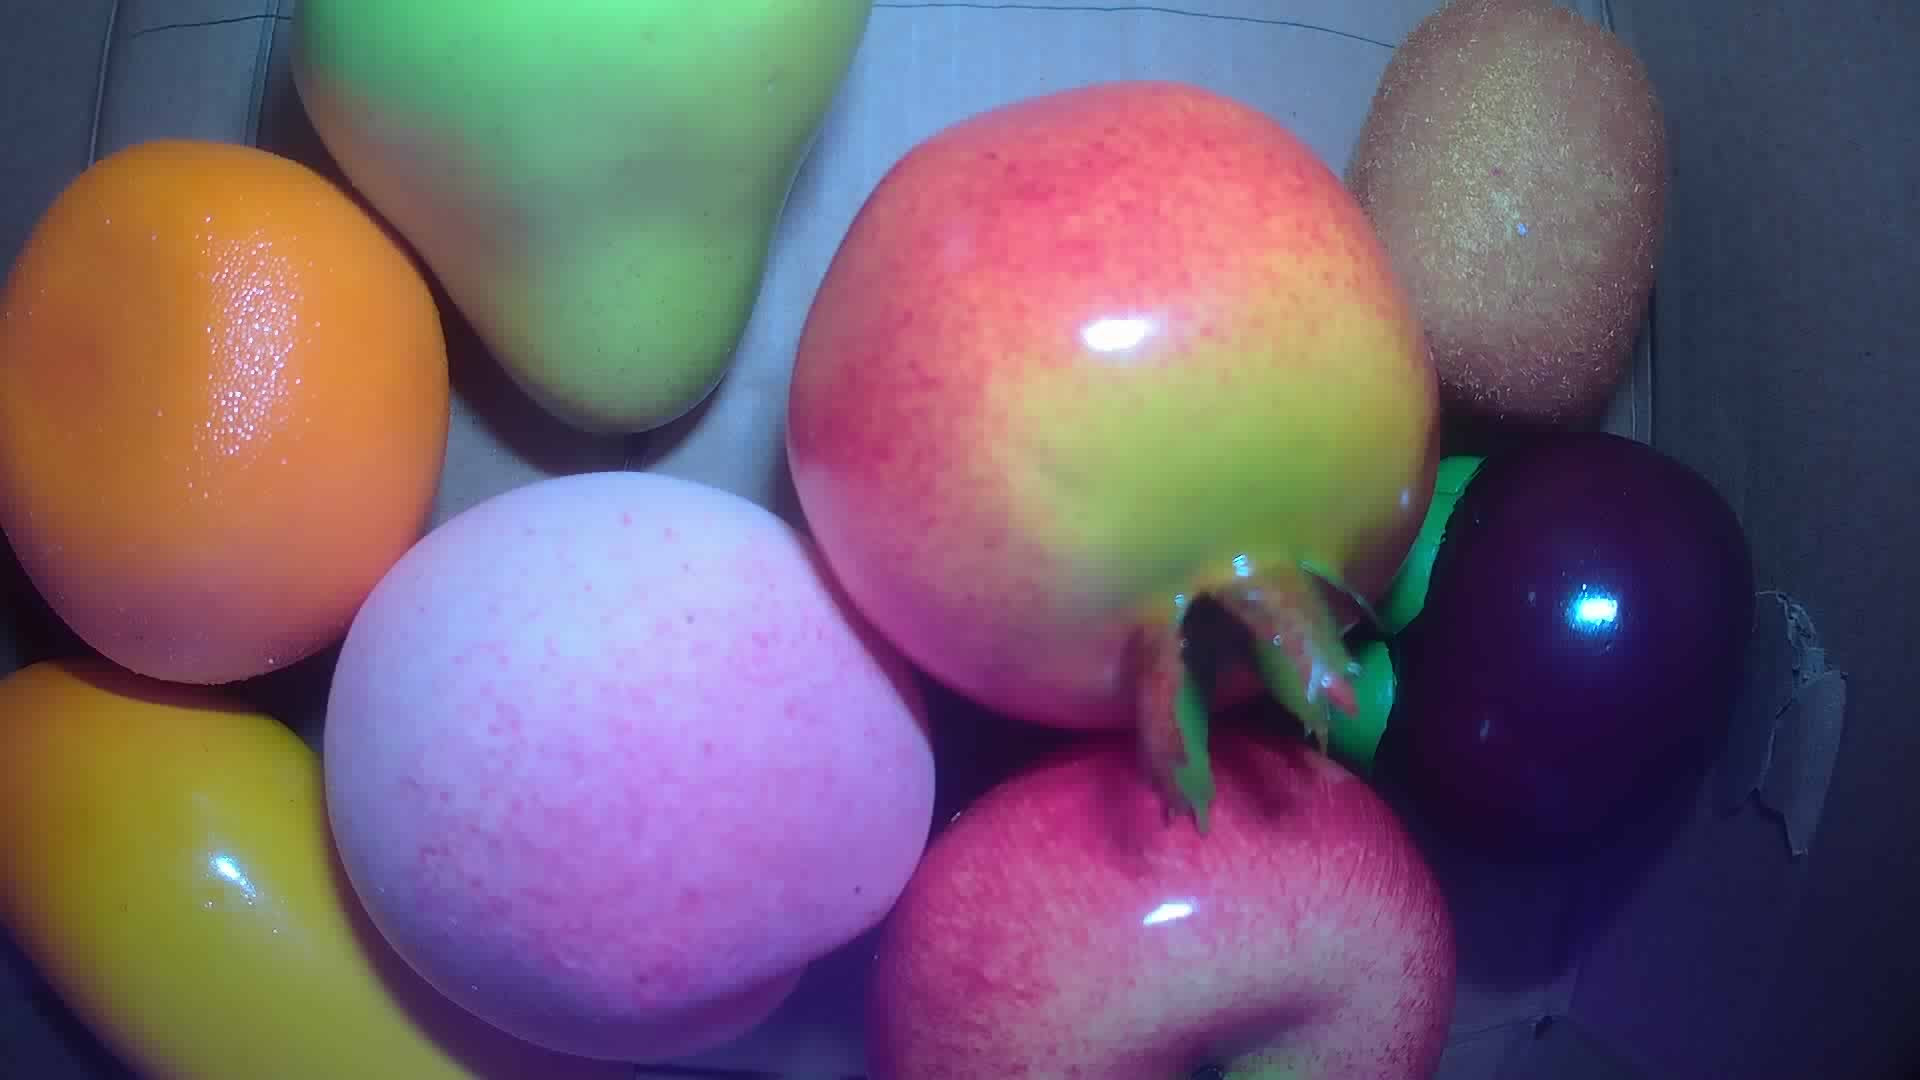apple: (864, 721, 1451, 1080)
kiwi: (1341, 1, 1677, 433)
mango: (1, 646, 539, 1080)
mangosteen: (1389, 431, 1760, 862)
orange: (1, 137, 459, 690)
peach: (330, 471, 938, 1065)
pear: (286, 1, 872, 454)
pomegranate: (779, 76, 1439, 822)
